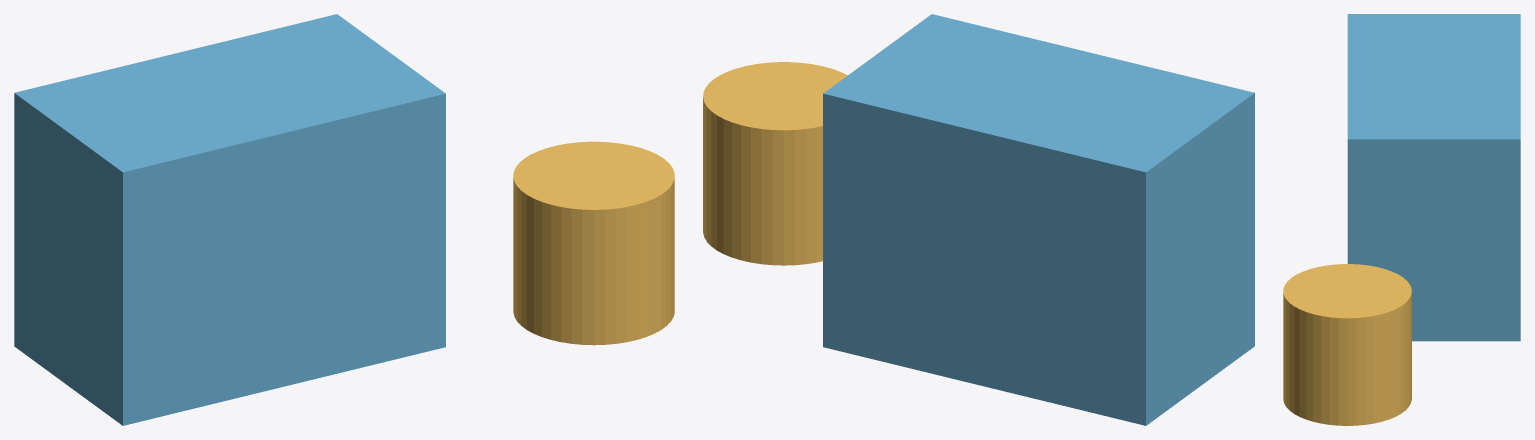
Rendered from step.glb.
3 views of the same model, side by side, from view 1: azimuth 30°, elevation 25°; view 2: azimuth 150°, elevation 25°; view 3: azimuth 270°, elevation 25° (orthographic). The views are drawn at different scales.
Visible parts, largest first — view 1: PrimaryTank[1], TransferPump[1]; view 2: PrimaryTank[1], TransferPump[1]; view 3: PrimaryTank[1], TransferPump[1].
Part boxes in pixels (box(x1,y1,x2,y2)): PrimaryTank[1]: box(14, 14, 445, 425); TransferPump[1]: box(513, 141, 674, 345); PrimaryTank[1]: box(823, 14, 1254, 425); TransferPump[1]: box(703, 62, 847, 265); PrimaryTank[1]: box(1347, 14, 1520, 341); TransferPump[1]: box(1283, 264, 1411, 425).
Size of the model in its own units: 2.01 by 0.9 by 0.9598.
